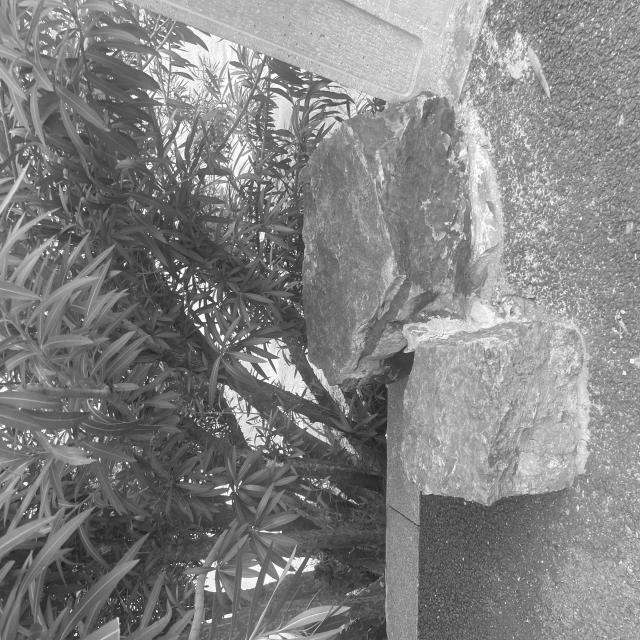Stone: (302, 96, 468, 387), (402, 322, 586, 504)
